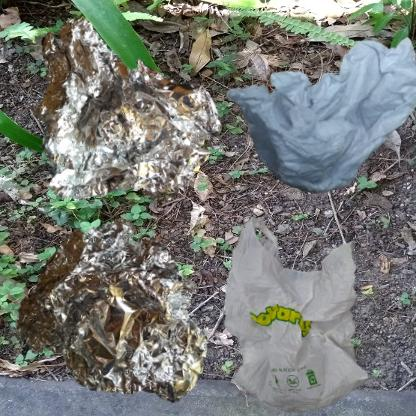aluminio: (10, 10, 243, 235), (10, 213, 213, 412)
bolsa: (213, 213, 389, 416)
papel: (213, 10, 416, 213)
